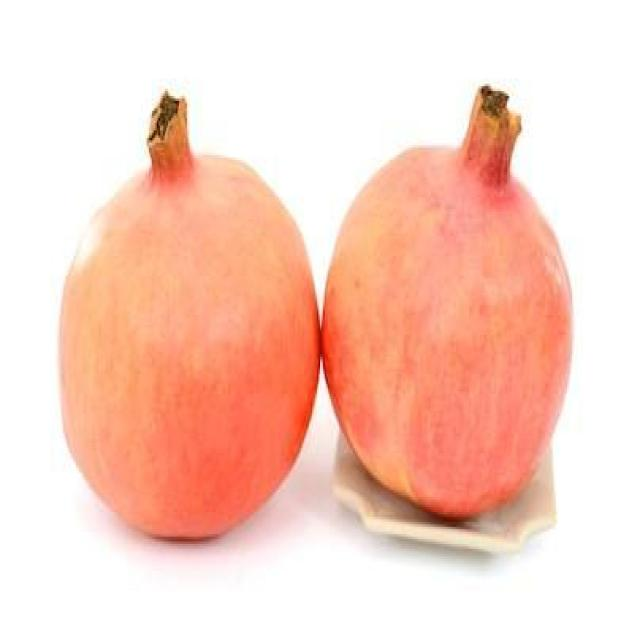Pomegranate: (56, 86, 321, 544), (323, 80, 576, 522)
